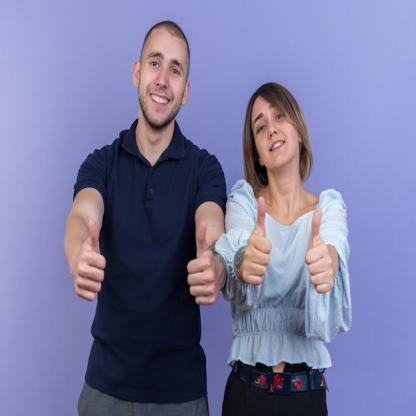thumb_up: (184, 218, 224, 308), (302, 204, 338, 296), (241, 191, 274, 288), (73, 213, 108, 304)
